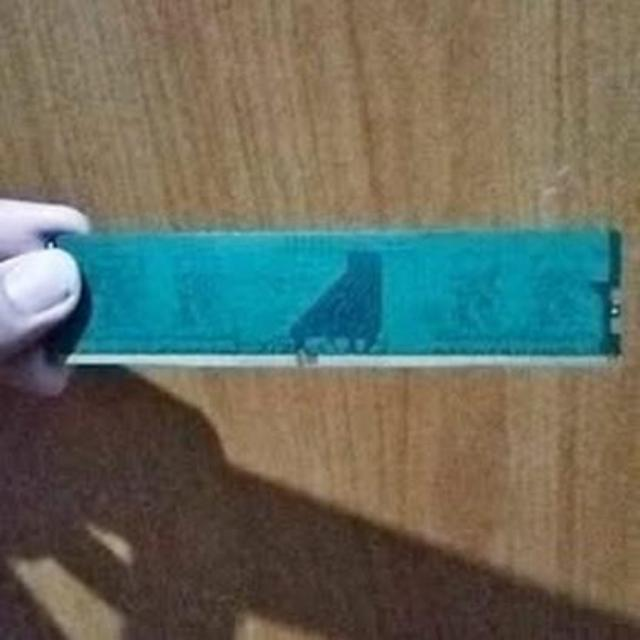RAM: (36, 218, 624, 370)
